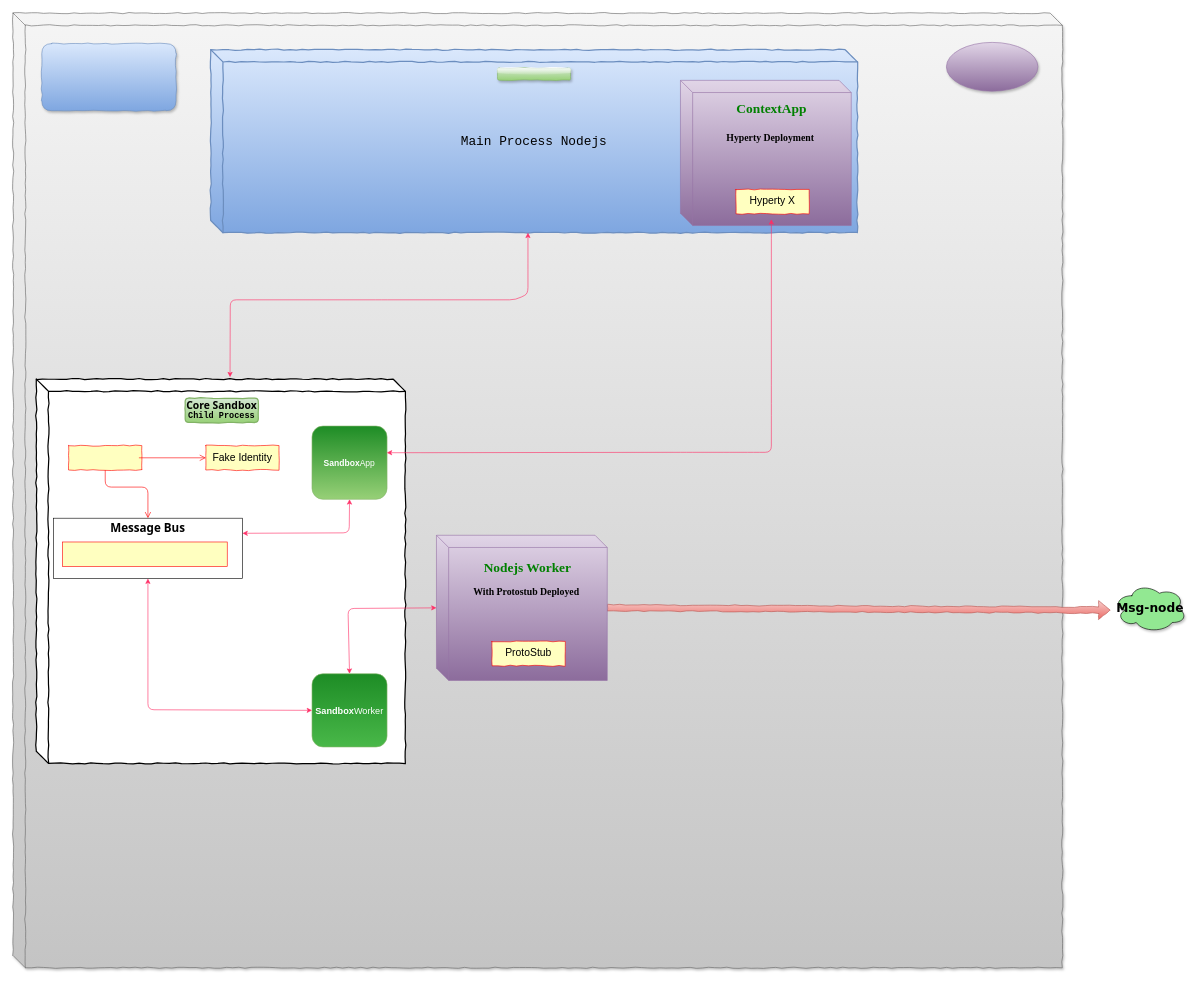
Image size: 1201x983. Some labels were removed from this diagram. Here are the shapes that lost their labels. From the top down, the centre of each, then its label:
At [109,78]: "Runtime NodeJS".
At [534,74]: "Server.js".
At [992,67]: "App.domain".
At [105,457]: "Registry".
At [144,553]: "MiniBus".
